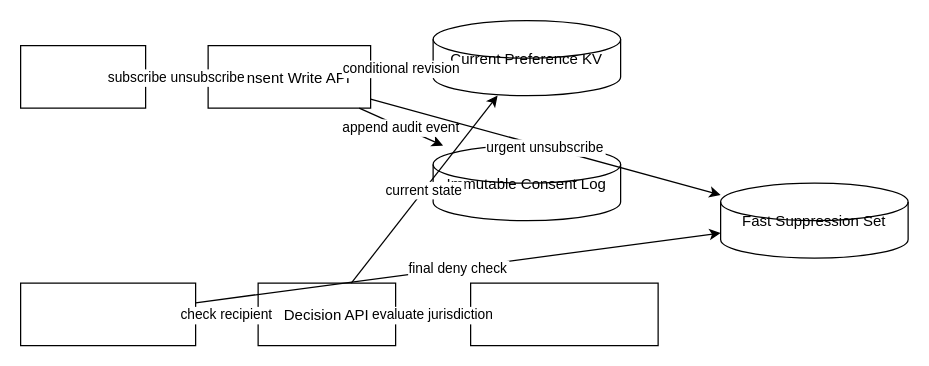
This 929x366 diagram has some shape labels left out. The centre of each missing label's shape, as x and y in pixels:
"Notification Service" goes at (x=107, y=314).
"Versioned Policy Engine" goes at (x=563, y=314).
"Пользователь" goes at (x=82, y=76).
